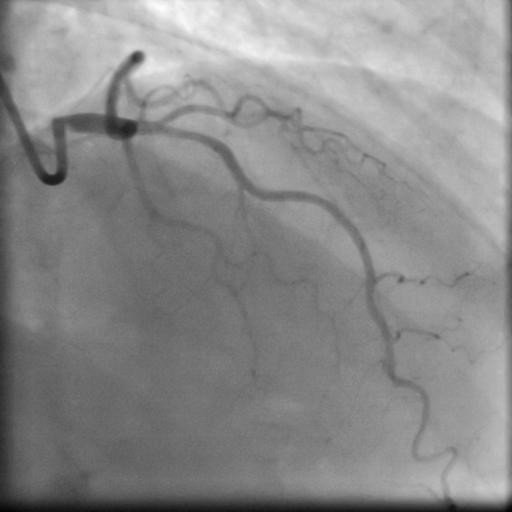Stenosis: (163, 121, 214, 144)
